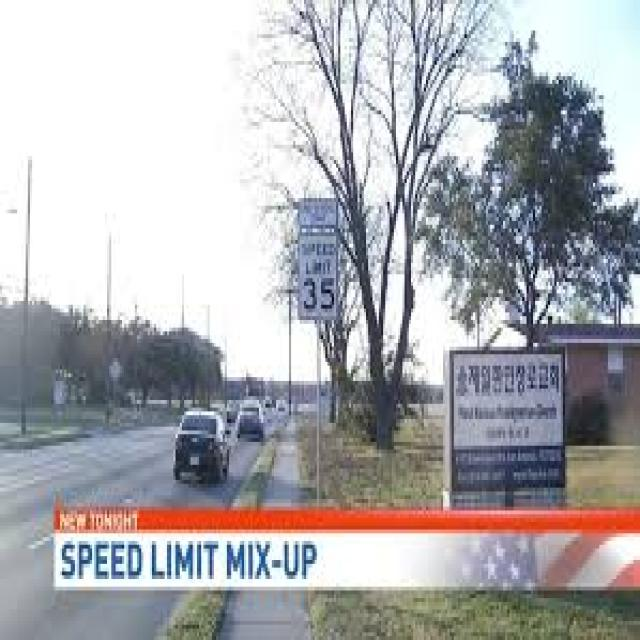speedLimit35: (296, 229, 338, 316)
